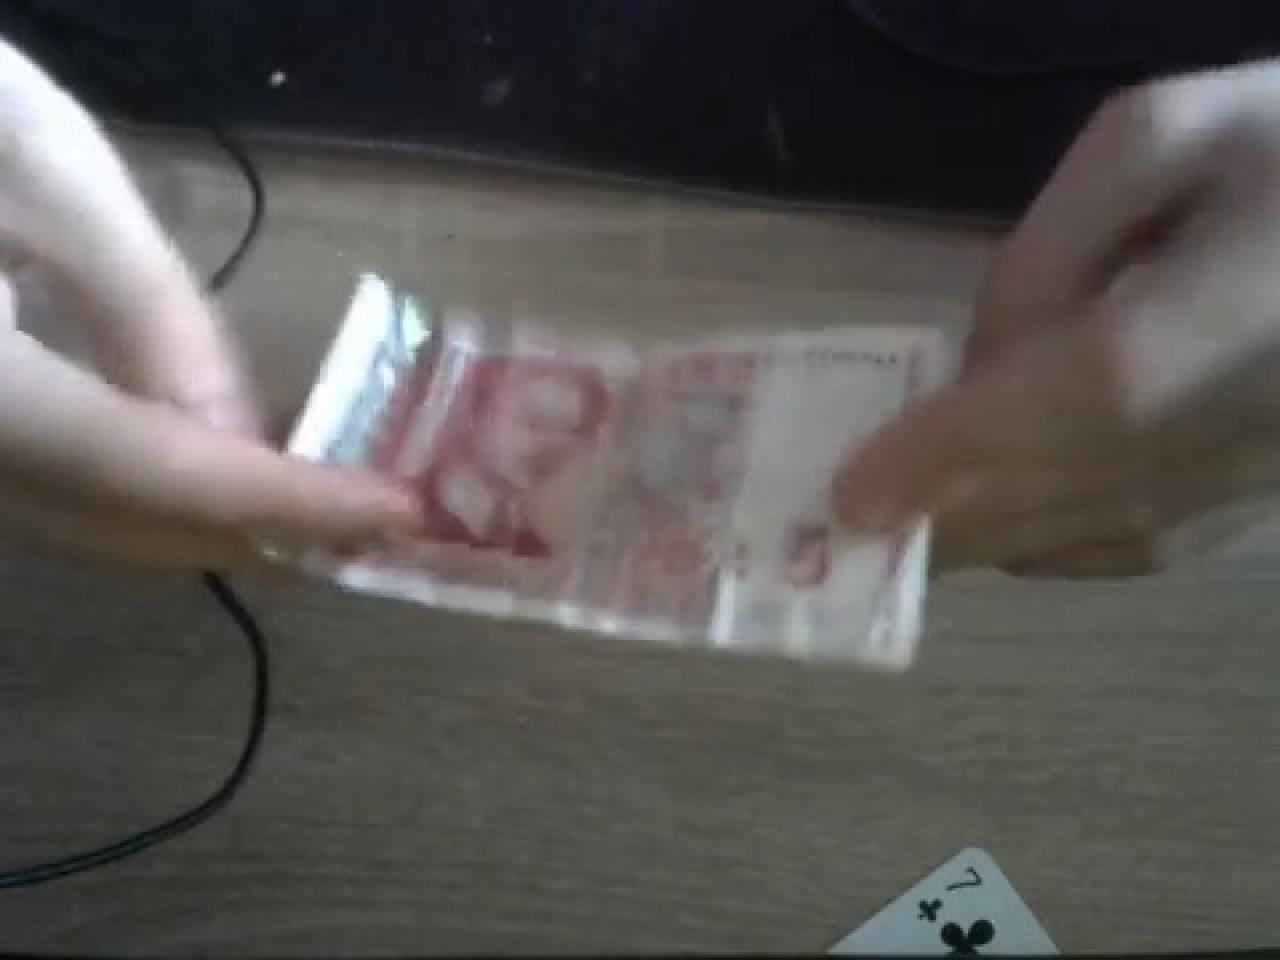5leva: (408, 328, 944, 670)
